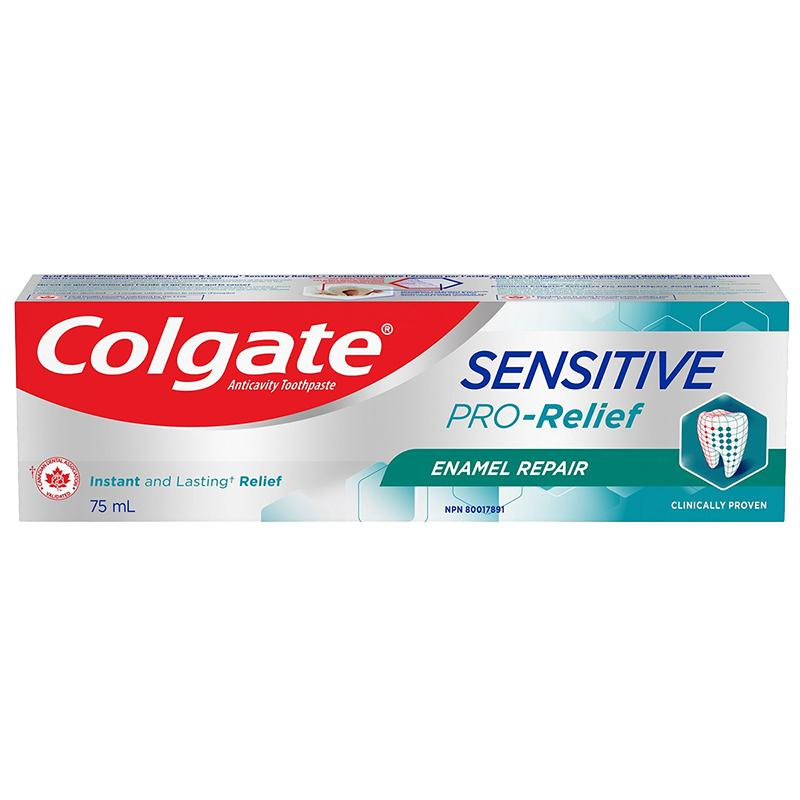toothpaste: (9, 266, 788, 524)
